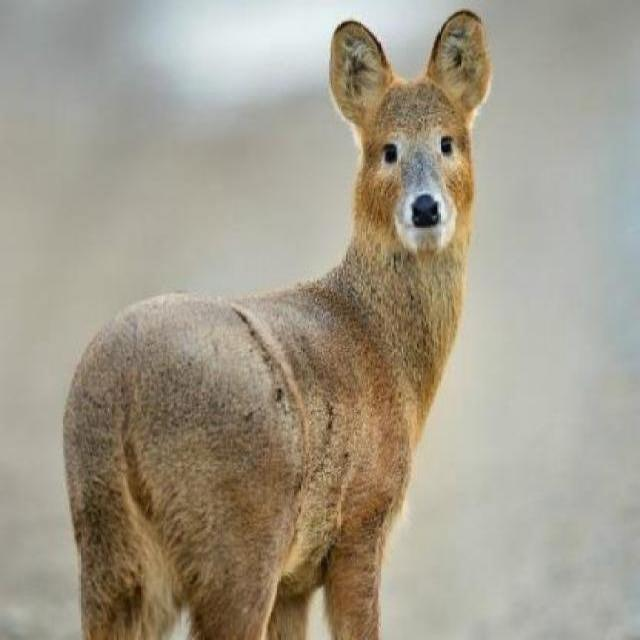deer: (55, 7, 498, 638)
